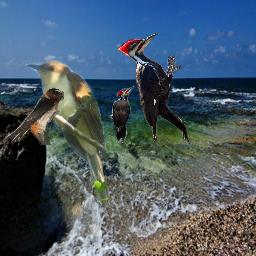Cuckoo: (22, 59, 113, 208)
Swallow: (3, 88, 64, 145)
Woodpecker: (117, 32, 190, 145), (107, 85, 137, 143)
